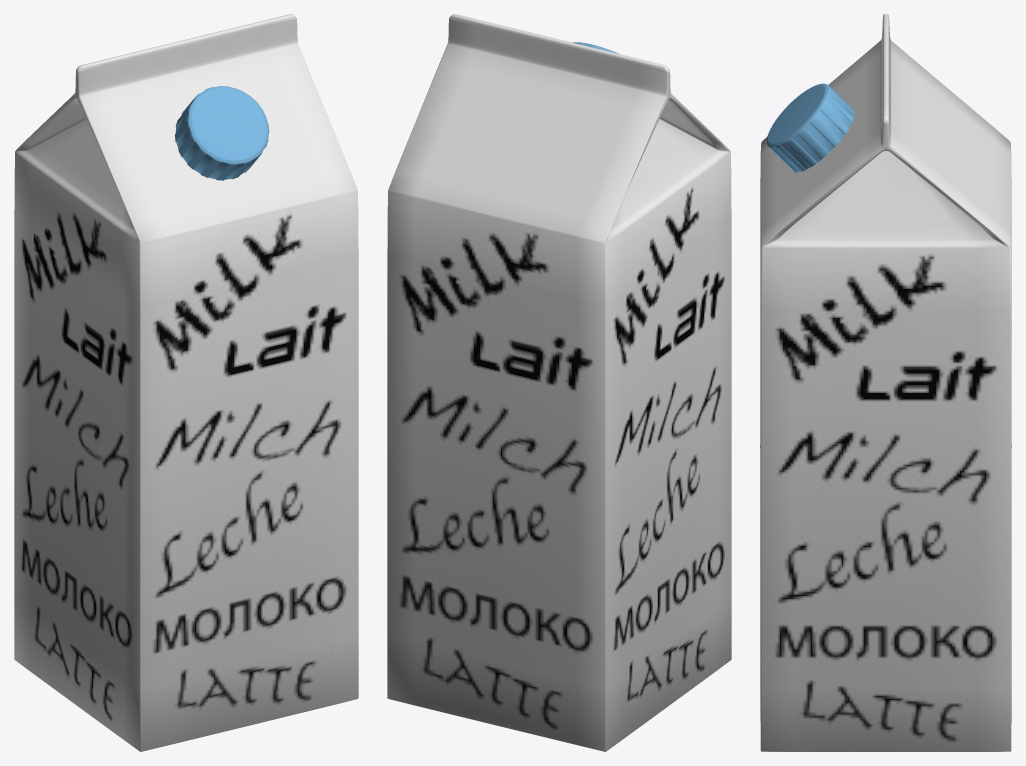
File: leche.glb
The picture shows the model from 3 angles, left to right: view 1: azimuth 30°, elevation 25°; view 2: azimuth 150°, elevation 25°; view 3: azimuth 270°, elevation 25°; orthographic projection.
Visible parts, largest first — view 1: tetrapak_Cube, cap_Cylinder; view 2: tetrapak_Cube; view 3: tetrapak_Cube, cap_Cylinder.
Boxes of the visible parts, left/top/right/bottom form: tetrapak_Cube: left=14, top=14, right=358, bottom=751; cap_Cylinder: left=175, top=86, right=269, bottom=180; tetrapak_Cube: left=387, top=14, right=731, bottom=751; tetrapak_Cube: left=760, top=14, right=1011, bottom=751; cap_Cylinder: left=766, top=83, right=854, bottom=172.
Size of the model in its own units: 0.7756 by 2.15 by 0.7727.
Materials: 2 (1 with a texture image).
